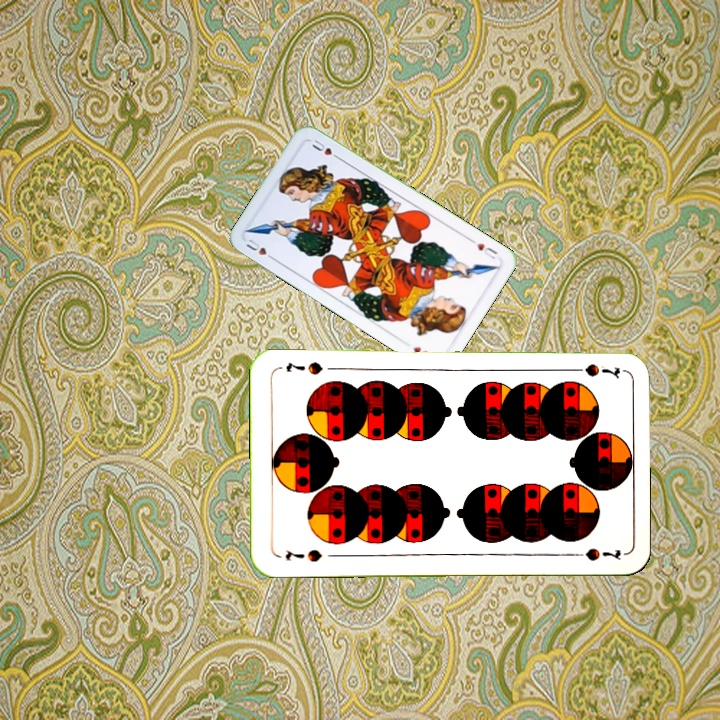HU: (242, 235, 278, 263), (466, 235, 500, 262)
S7: (564, 360, 622, 381), (281, 545, 325, 565)
